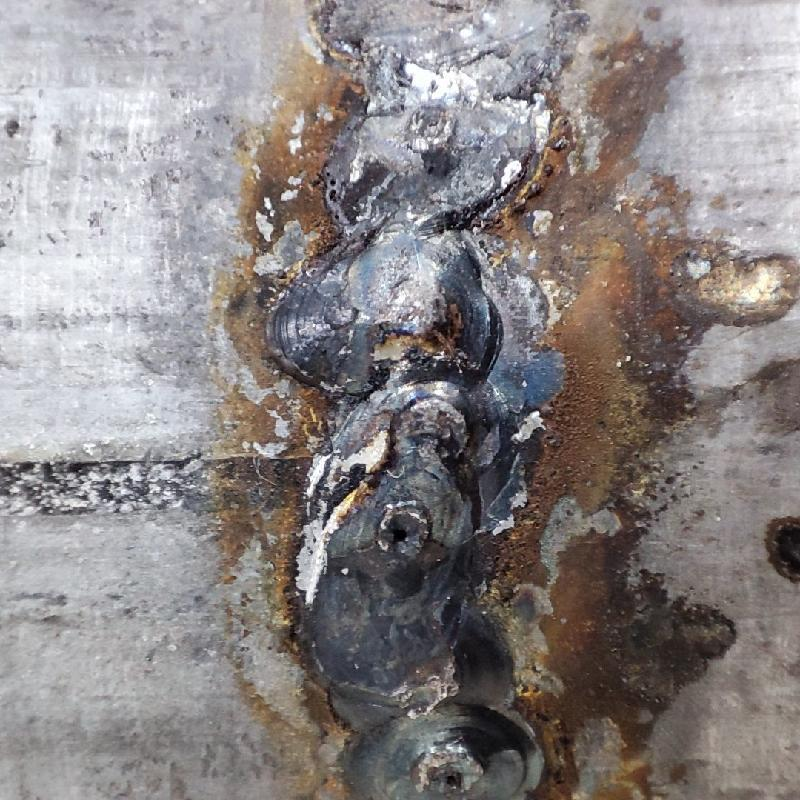Not_fully_soldered: (313, 2, 558, 222)
Surface_pores: (378, 514, 418, 556)
wrong_size: (277, 235, 548, 795)
